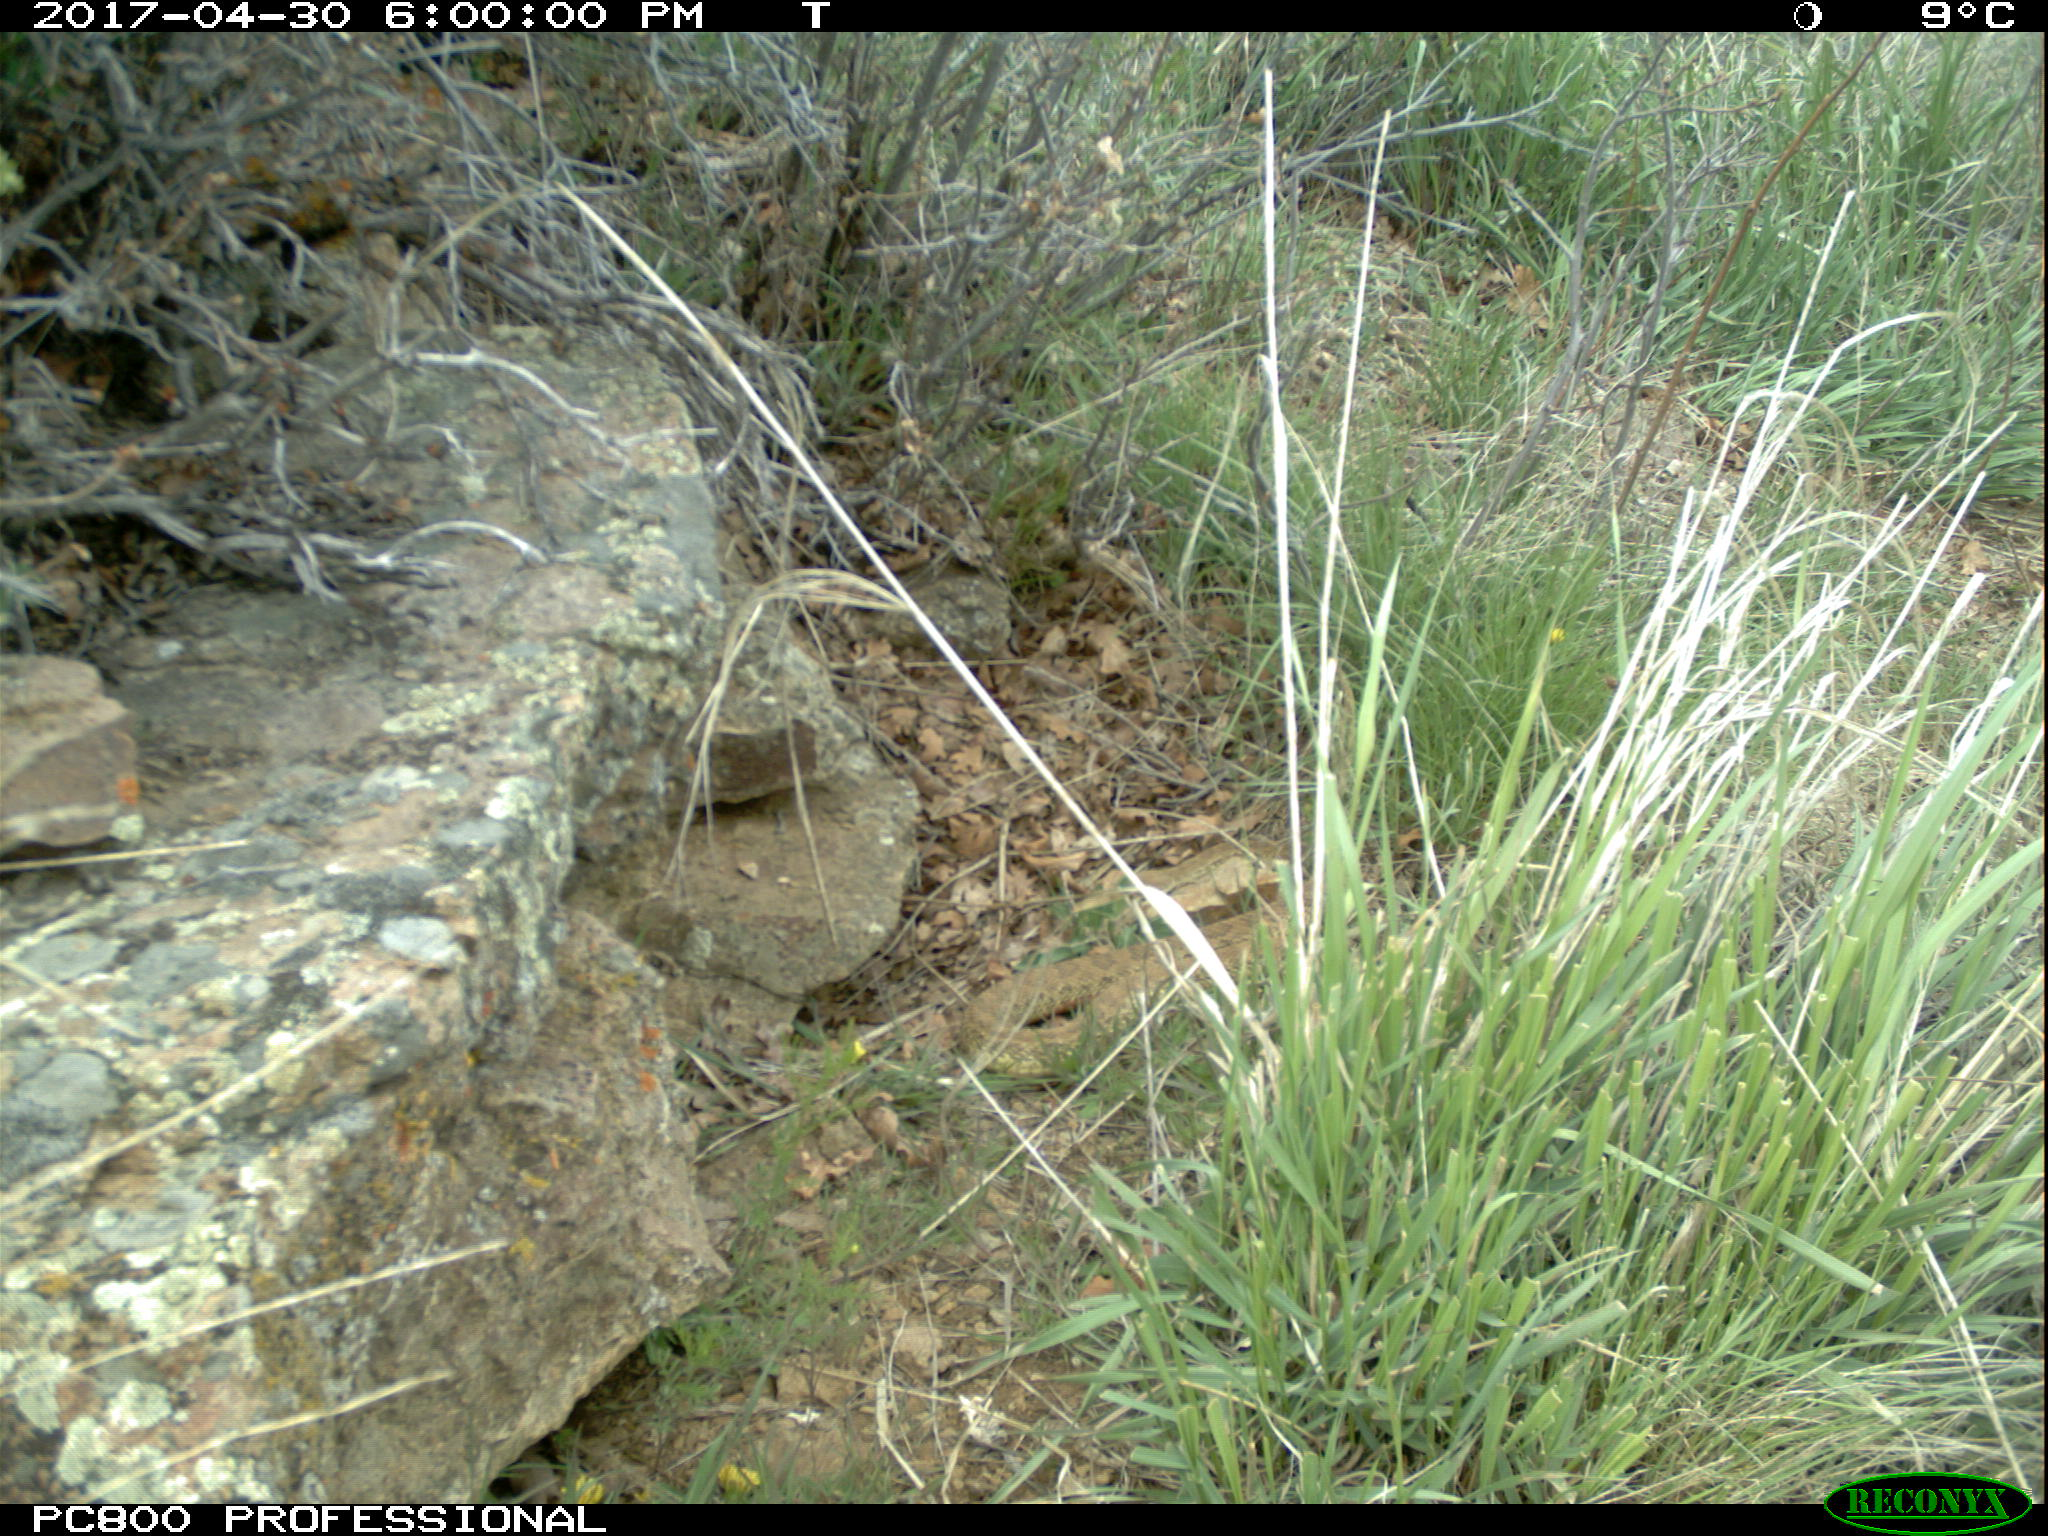snake: (971, 910, 1288, 1083)
